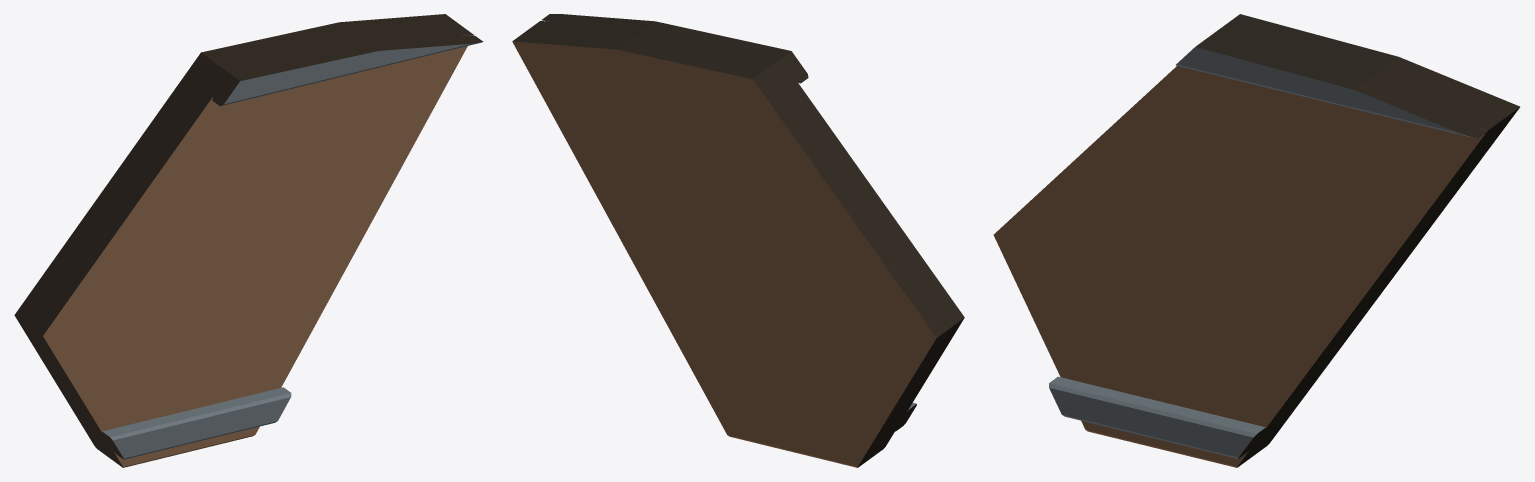
File: SM_DoorShard_03_69.fbx
The picture shows the model from 3 angles, left to right: view 1: azimuth 30°, elevation 25°; view 2: azimuth 150°, elevation 25°; view 3: azimuth 330°, elevation 25°; orthographic projection. The views are drawn at different scales.
Visible parts, largest first — view 1: SM_DoorShard_03_69; view 2: SM_DoorShard_03_69; view 3: SM_DoorShard_03_69.
Boxes of the visible parts, x1,y1,x2,y2 form: SM_DoorShard_03_69: (14, 14, 483, 467); SM_DoorShard_03_69: (512, 14, 964, 467); SM_DoorShard_03_69: (993, 14, 1519, 467).
Bounding box in the file's own units: 140 × 22 × 114.
